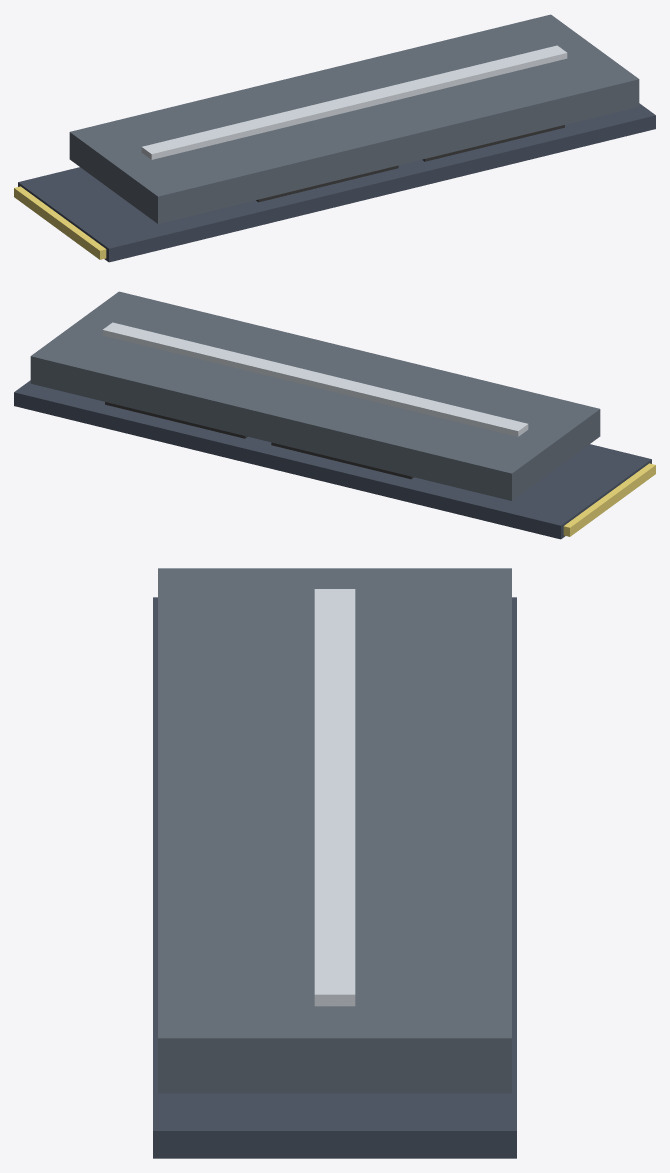
File: storage.glb
3 renders of one model, top to bottom at view 1: azimuth 30°, elevation 25°; view 2: azimuth 150°, elevation 25°; view 3: azimuth 270°, elevation 25°, orthographic. The views are drawn at different scales.
Parts seen in each view (by area): view 1: Heatsink_Cover, M2_PCB, Silver_Branding_Stripe, M2_Gold_Pins, NAND_Flash_1, NAND_Flash_2; view 2: Heatsink_Cover, M2_PCB, Silver_Branding_Stripe, M2_Gold_Pins, NAND_Flash_1, NAND_Flash_2; view 3: Heatsink_Cover, M2_PCB, Silver_Branding_Stripe.
Part boxes in pixels (x1,y1,x2,y2): Heatsink_Cover: (69,14,639,223); M2_PCB: (18,103,655,262); Silver_Branding_Stripe: (141,45,567,159); M2_Gold_Pins: (14,186,106,259); NAND_Flash_1: (256,165,398,202); NAND_Flash_2: (422,125,564,161); Heatsink_Cover: (30,291,600,500); M2_PCB: (14,380,651,539); Silver_Branding_Stripe: (102,322,528,436); M2_Gold_Pins: (563,463,655,536); NAND_Flash_1: (271,442,413,479); NAND_Flash_2: (105,402,247,438); Heatsink_Cover: (158,568,511,1093); M2_PCB: (153,597,516,1158); Silver_Branding_Stripe: (314,589,355,1006).
Bounding box in the file's own units: 1.26 × 0.1275 × 0.36.
